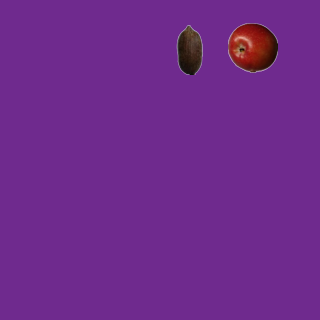Apple Braeburn: (227, 22, 277, 72)
Nut Pecan: (164, 24, 214, 74)
